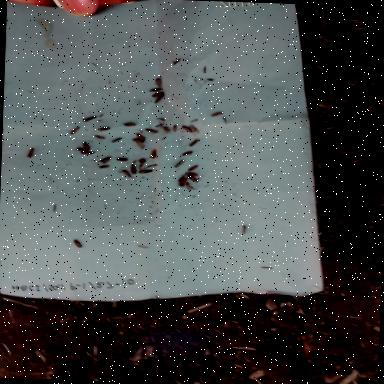pbw: (70, 237, 82, 250)
